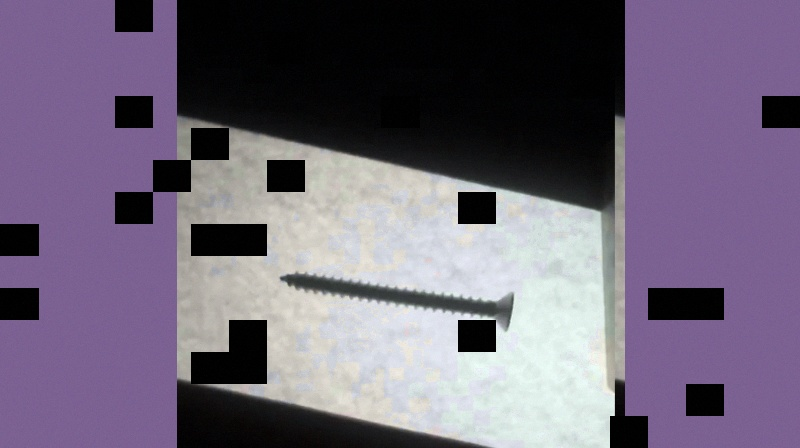S002: (278, 269, 517, 333)
